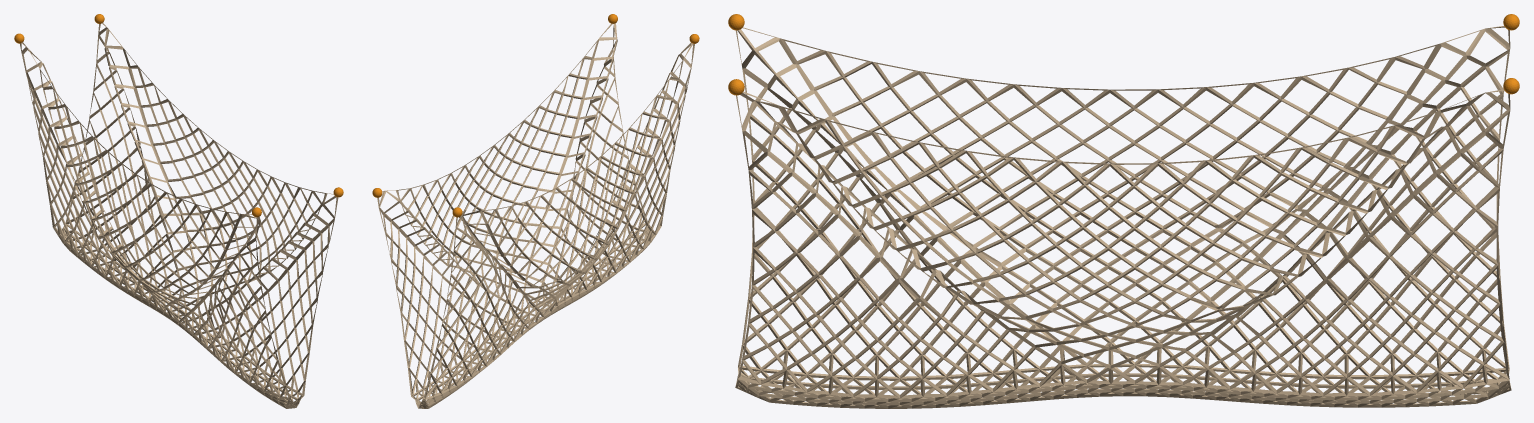
The model's file is Fishnet.fbx.
3 views of the same model, side by side, from view 1: azimuth 30°, elevation 25°; view 2: azimuth 150°, elevation 25°; view 3: azimuth 270°, elevation 25° (orthographic). The views are drawn at different scales.
Parts seen in each view (by area): view 1: Plane, Icosphere; view 2: Plane, Icosphere; view 3: Plane, Icosphere.
Part boxes in pixels (bbox=[...]): Plane: bbox=[20, 22, 338, 408]; Icosphere: bbox=[14, 14, 343, 217]; Plane: bbox=[377, 23, 694, 408]; Icosphere: bbox=[372, 14, 699, 217]; Plane: bbox=[735, 26, 1511, 408]; Icosphere: bbox=[728, 14, 1519, 95].
Bounding box in the file's own units: 27.39 × 50.05 × 99.06.
2 materials, 2 textured.
